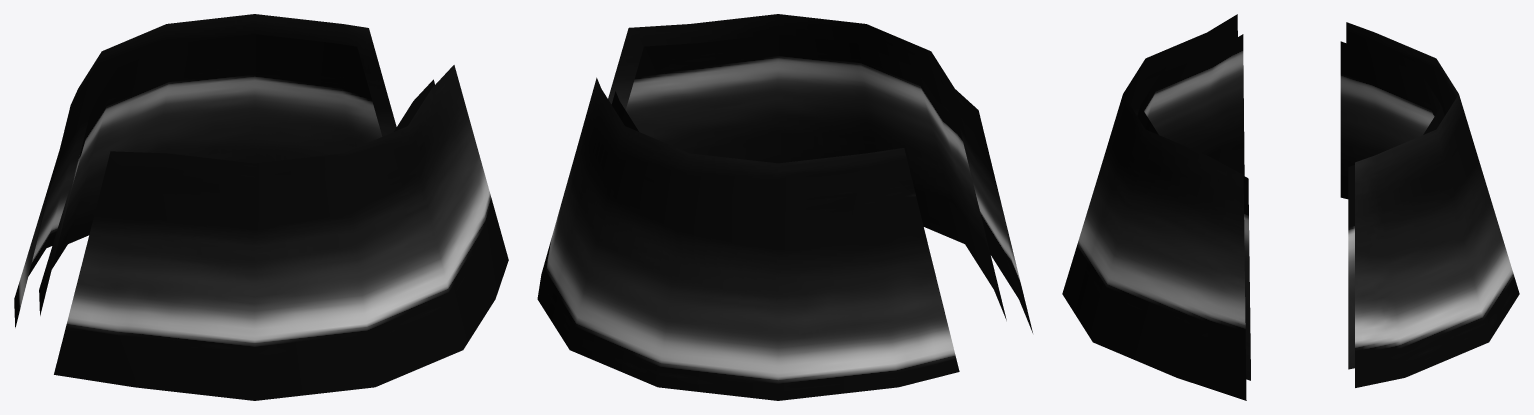
File: pir_m_efx_chr_voodooShield.fbx
The picture shows the model from 3 angles, left to right: view 1: azimuth 30°, elevation 25°; view 2: azimuth 150°, elevation 25°; view 3: azimuth 270°, elevation 25°; orthographic projection. The views are drawn at different scales.
Parts seen in each view (by area): view 1: pPipe1, pPipe2; view 2: pPipe1, pPipe2; view 3: pPipe1, pPipe2.
Part boxes in pixels (x1,y1,x2,y2): pPipe1: (14, 14, 508, 400); pPipe2: (39, 34, 434, 315); pPipe1: (537, 14, 1032, 400); pPipe2: (611, 34, 1006, 320); pPipe1: (1062, 14, 1519, 400); pPipe2: (1137, 34, 1444, 380).
Bounding box in the file's own units: 793 × 348 × 721.
1 material, 1 textured.
